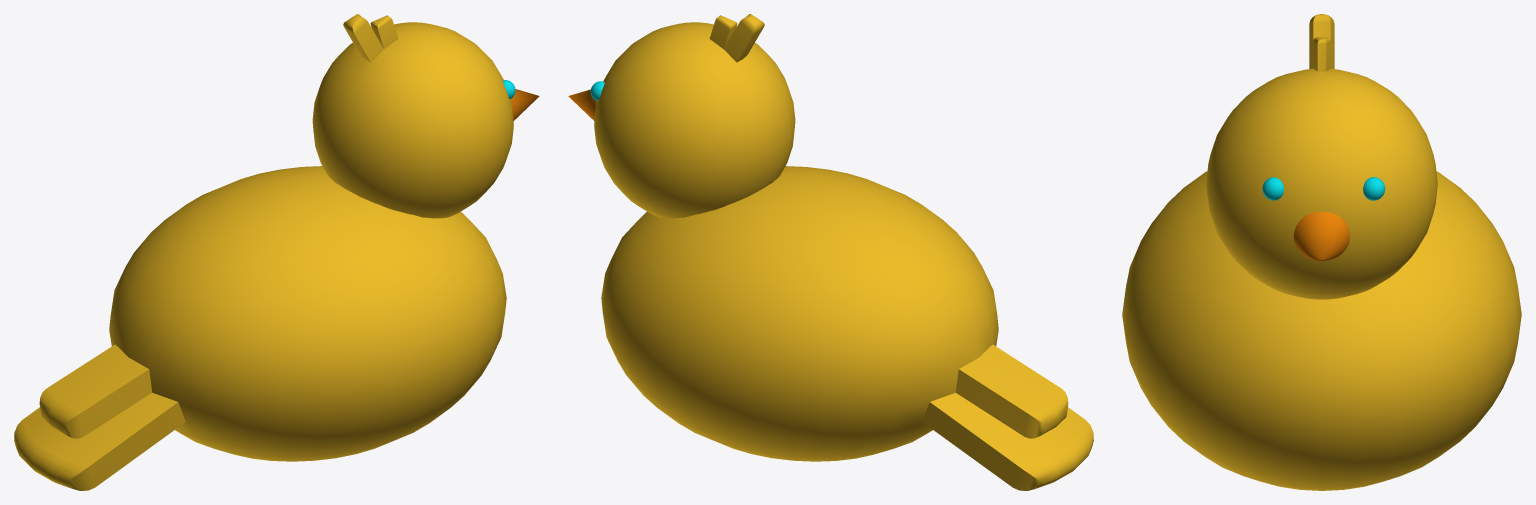
The model's file is ducky.fbx.
The picture shows the model from 3 angles, left to right: view 1: azimuth 30°, elevation 25°; view 2: azimuth 150°, elevation 25°; view 3: azimuth 270°, elevation 25°; orthographic projection. The views are drawn at different scales.
Parts seen in each view (by area): view 1: Sphere.001, Sphere; view 2: Sphere.001, Sphere; view 3: Sphere.001, Sphere, Cone.
Part boxes in pixels (bbox=[...]): Sphere.001: bbox=[14, 166, 506, 490]; Sphere: bbox=[312, 14, 513, 218]; Sphere.001: bbox=[601, 166, 1093, 490]; Sphere: bbox=[594, 14, 795, 218]; Sphere.001: bbox=[1122, 171, 1521, 490]; Sphere: bbox=[1206, 14, 1437, 299]; Cone: bbox=[1293, 212, 1350, 261].
Size of the model in its own units: 147 by 114 by 86.96.
